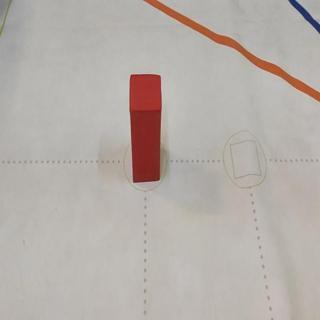redbox: (129, 71, 161, 184)
